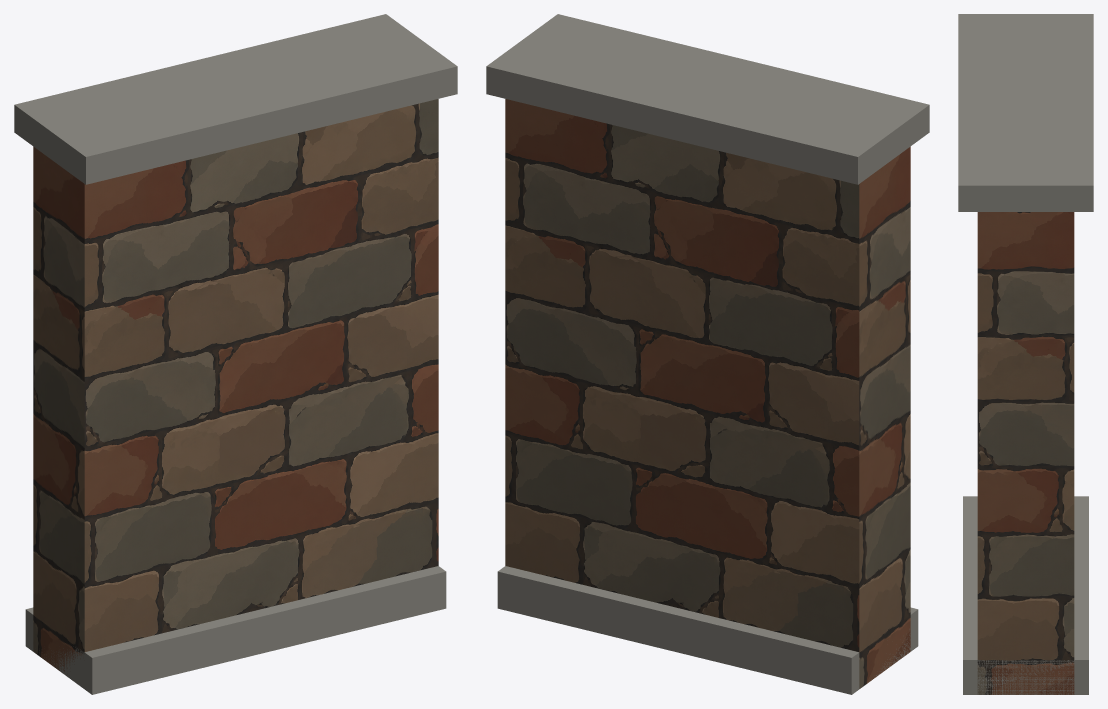
The model's file is wall_brick.glb.
The picture shows the model from 3 angles, left to right: view 1: azimuth 30°, elevation 25°; view 2: azimuth 150°, elevation 25°; view 3: azimuth 270°, elevation 25°; orthographic projection. The views are drawn at different scales.
Visible parts, largest first — view 1: wall_brick; view 2: wall_brick; view 3: wall_brick.
Part boxes in pixels (x1,y1,x2,y2): wall_brick: [14, 14, 457, 694]; wall_brick: [486, 14, 929, 694]; wall_brick: [958, 14, 1093, 694].
Bounding box in the file's own units: 2.1 × 2.92 × 0.7.
2 materials, 1 textured.
